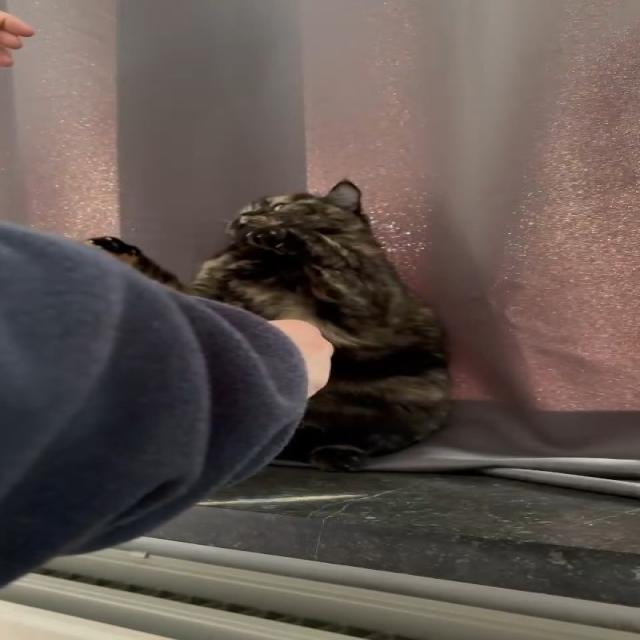authorized: (84, 178, 453, 473)
